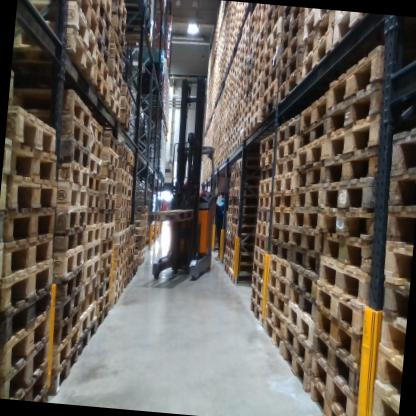forklift: (150, 68, 234, 306)
pallet: (14, 0, 107, 61), (11, 24, 101, 85), (326, 45, 392, 125), (322, 76, 387, 149), (308, 328, 369, 396), (11, 82, 95, 129), (0, 310, 55, 380), (309, 301, 371, 363), (324, 113, 388, 172), (311, 279, 370, 340), (0, 232, 58, 293), (0, 259, 58, 318), (17, 0, 107, 38), (5, 103, 63, 159), (315, 227, 376, 280), (0, 340, 51, 400), (0, 292, 55, 347), (318, 146, 384, 191), (318, 169, 378, 217), (310, 362, 363, 416), (4, 206, 61, 256), (315, 256, 374, 304), (5, 176, 59, 222), (317, 199, 375, 240), (9, 143, 64, 182), (298, 90, 335, 144), (371, 347, 403, 409), (375, 308, 406, 371), (379, 274, 410, 332), (46, 323, 83, 369), (331, 12, 372, 53), (302, 27, 334, 77), (301, 13, 335, 60), (148, 200, 196, 233), (291, 119, 326, 163), (281, 325, 314, 370), (49, 299, 84, 341), (388, 125, 416, 177), (46, 351, 79, 395), (280, 344, 310, 392), (380, 245, 411, 291), (52, 175, 89, 213), (52, 260, 83, 304), (306, 387, 352, 416), (384, 206, 415, 249), (55, 219, 89, 257), (297, 137, 330, 176), (277, 65, 304, 112), (47, 287, 82, 323), (55, 119, 92, 152), (56, 138, 92, 170), (294, 156, 325, 193), (54, 241, 84, 279), (387, 169, 416, 208), (75, 317, 97, 366), (58, 199, 88, 233), (118, 24, 157, 50), (57, 160, 91, 189), (283, 306, 310, 342), (281, 18, 307, 55), (279, 52, 303, 92), (288, 265, 317, 298), (286, 286, 315, 319), (279, 33, 304, 71), (293, 181, 323, 212), (372, 384, 401, 416), (286, 246, 315, 278), (304, 10, 331, 43), (260, 324, 286, 357), (92, 48, 112, 89), (279, 7, 302, 42), (94, 19, 114, 59), (119, 10, 153, 33), (277, 113, 303, 143), (264, 290, 289, 320), (266, 272, 291, 302), (267, 255, 294, 282), (273, 155, 301, 181), (289, 227, 319, 251), (263, 303, 287, 332), (98, 130, 121, 159), (84, 151, 105, 182), (289, 209, 321, 229), (76, 304, 96, 336), (105, 75, 125, 107), (264, 19, 282, 54), (87, 115, 106, 148), (273, 171, 298, 196), (275, 139, 300, 164), (89, 72, 108, 104), (269, 239, 292, 264), (271, 190, 297, 212), (260, 81, 280, 109), (107, 61, 125, 92), (268, 226, 292, 249), (80, 221, 103, 245), (94, 301, 114, 328), (97, 10, 114, 41), (105, 92, 122, 123), (110, 23, 128, 52), (236, 152, 262, 172), (110, 4, 127, 34), (255, 133, 277, 156), (96, 251, 116, 276), (93, 274, 112, 300), (260, 96, 279, 122), (262, 49, 279, 78), (107, 41, 124, 70), (109, 0, 131, 22), (82, 243, 102, 267), (262, 67, 282, 91), (254, 9, 271, 37), (110, 33, 127, 61), (228, 269, 253, 288), (80, 290, 98, 316), (99, 174, 119, 197), (233, 172, 260, 189), (270, 210, 294, 229), (257, 147, 276, 171), (233, 183, 259, 200), (122, 0, 148, 17), (254, 229, 273, 252), (95, 41, 110, 70), (232, 231, 257, 248), (86, 138, 106, 159), (254, 36, 269, 64), (245, 299, 261, 325), (232, 206, 258, 222), (254, 218, 271, 242), (82, 276, 99, 300), (87, 173, 104, 197), (84, 191, 104, 211), (267, 9, 283, 34), (229, 250, 254, 266), (253, 245, 270, 268), (233, 193, 259, 208), (84, 211, 103, 231), (99, 165, 119, 184), (95, 290, 113, 311), (253, 24, 268, 49), (101, 147, 120, 166), (97, 193, 116, 212), (99, 218, 116, 239), (229, 241, 254, 255), (265, 40, 280, 63), (251, 74, 266, 97), (231, 224, 254, 239), (97, 0, 114, 20), (248, 99, 264, 120), (235, 165, 259, 179), (121, 101, 135, 125), (250, 258, 265, 280), (256, 177, 275, 194), (254, 206, 273, 223), (250, 282, 264, 305), (253, 50, 267, 73), (232, 215, 258, 227), (230, 259, 252, 273), (95, 266, 111, 285), (117, 115, 132, 135), (252, 61, 265, 84), (258, 163, 276, 179), (255, 193, 273, 209), (99, 238, 114, 257), (115, 175, 129, 195), (238, 36, 251, 57), (117, 151, 130, 172), (102, 209, 118, 226), (254, 5, 271, 21), (84, 260, 99, 278), (250, 89, 265, 107), (123, 82, 135, 104), (249, 115, 262, 135), (241, 13, 252, 36), (251, 273, 263, 293), (238, 76, 252, 92), (281, 8, 294, 25), (111, 274, 122, 294), (302, 8, 314, 26), (116, 191, 128, 209), (82, 0, 101, 11), (128, 151, 139, 170), (115, 167, 128, 182), (113, 231, 126, 246), (239, 92, 249, 111), (118, 144, 129, 161), (245, 93, 255, 111), (114, 263, 124, 281), (268, 6, 279, 22), (245, 61, 256, 77), (115, 203, 126, 219), (113, 253, 124, 269), (241, 45, 250, 64), (246, 52, 256, 69), (124, 177, 136, 191), (246, 70, 255, 88), (250, 8, 259, 26), (239, 87, 247, 106), (248, 40, 257, 56), (241, 55, 250, 71), (240, 68, 250, 82), (243, 104, 252, 119), (112, 290, 122, 303), (127, 231, 137, 244), (243, 28, 251, 44), (243, 117, 252, 131), (249, 22, 258, 36), (238, 106, 247, 120), (249, 33, 257, 48), (237, 115, 245, 130), (121, 245, 129, 260), (136, 206, 151, 214), (230, 155, 237, 172), (244, 125, 251, 141), (231, 134, 239, 148), (233, 107, 241, 121), (123, 226, 131, 240), (128, 244, 136, 258), (115, 219, 125, 230), (134, 241, 146, 250), (134, 234, 146, 243), (246, 82, 253, 97), (239, 5, 246, 20), (222, 266, 229, 281), (132, 221, 147, 228), (243, 3, 251, 16), (124, 218, 133, 229), (236, 124, 243, 137), (233, 117, 240, 130), (135, 213, 148, 220), (115, 245, 125, 254), (124, 210, 133, 220), (126, 191, 135, 201), (128, 226, 137, 236), (135, 248, 145, 257), (132, 229, 147, 235), (231, 127, 239, 138), (121, 269, 129, 280), (121, 258, 129, 269), (126, 200, 134, 211), (236, 65, 243, 77), (224, 248, 231, 260), (238, 133, 244, 146), (227, 214, 234, 225), (232, 143, 239, 153), (237, 70, 242, 84), (239, 13, 244, 27), (228, 188, 235, 198), (236, 83, 242, 94), (128, 263, 133, 276), (234, 100, 241, 109), (223, 257, 230, 266), (227, 197, 234, 206), (125, 273, 132, 282), (235, 92, 241, 102), (237, 57, 243, 67), (239, 3, 245, 13), (226, 233, 233, 241), (123, 239, 130, 247), (129, 169, 137, 176), (226, 240, 232, 249), (121, 280, 127, 289), (238, 49, 243, 59), (231, 173, 236, 183), (227, 225, 233, 233), (137, 258, 145, 264), (228, 205, 233, 214), (229, 182, 235, 189), (128, 257, 134, 264), (134, 255, 137, 267), (135, 265, 138, 276)
